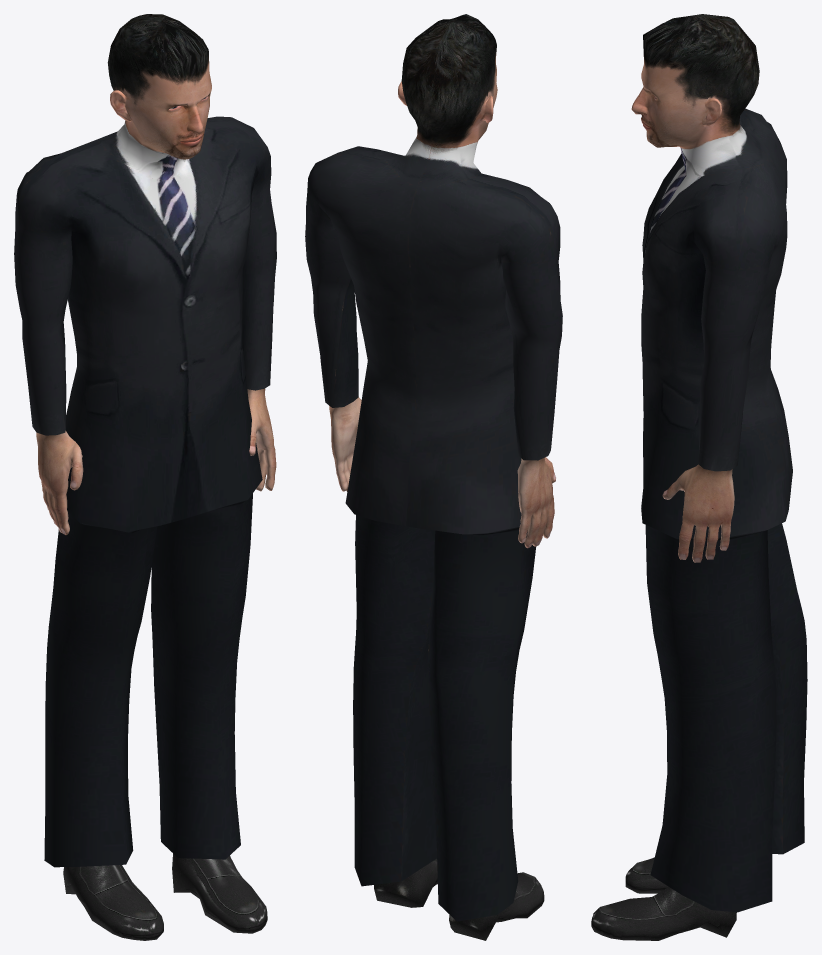
The model's file is Man_Suit_1.gltf.
3 views of the same model, side by side, from view 1: azimuth 30°, elevation 25°; view 2: azimuth 150°, elevation 25°; view 3: azimuth 270°, elevation 25° (orthographic).
Parts seen in each view (by area): view 1: Man_Suit_1; view 2: Man_Suit_1; view 3: Man_Suit_1.
Boxes of the visible parts, x1,y1,x2,y2 form: Man_Suit_1: (14,14,276,940); Man_Suit_1: (305,14,562,940); Man_Suit_1: (591,14,807,940).
Size of the model in its own units: 0.5778 by 1.96 by 0.429.
1 material, 1 textured.
